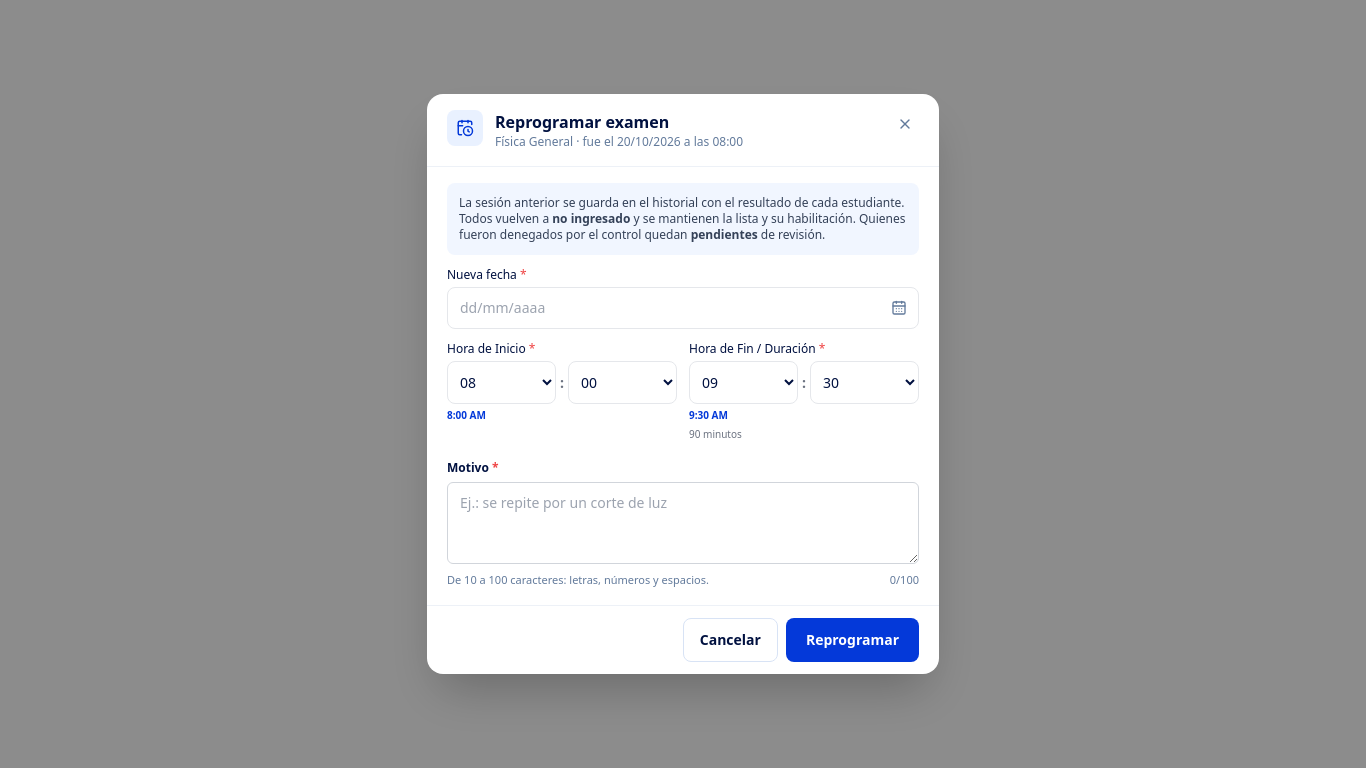
Scenario: Reprogramar examen › no deja una hora de fin anterior a la de inicio
The width and height of the screenshot is (1366, 768).
Step 1. Type "10012099" into the field labelled "Nueva fecha" → (683, 308), box left=447, top=287, right=919, bottom=329
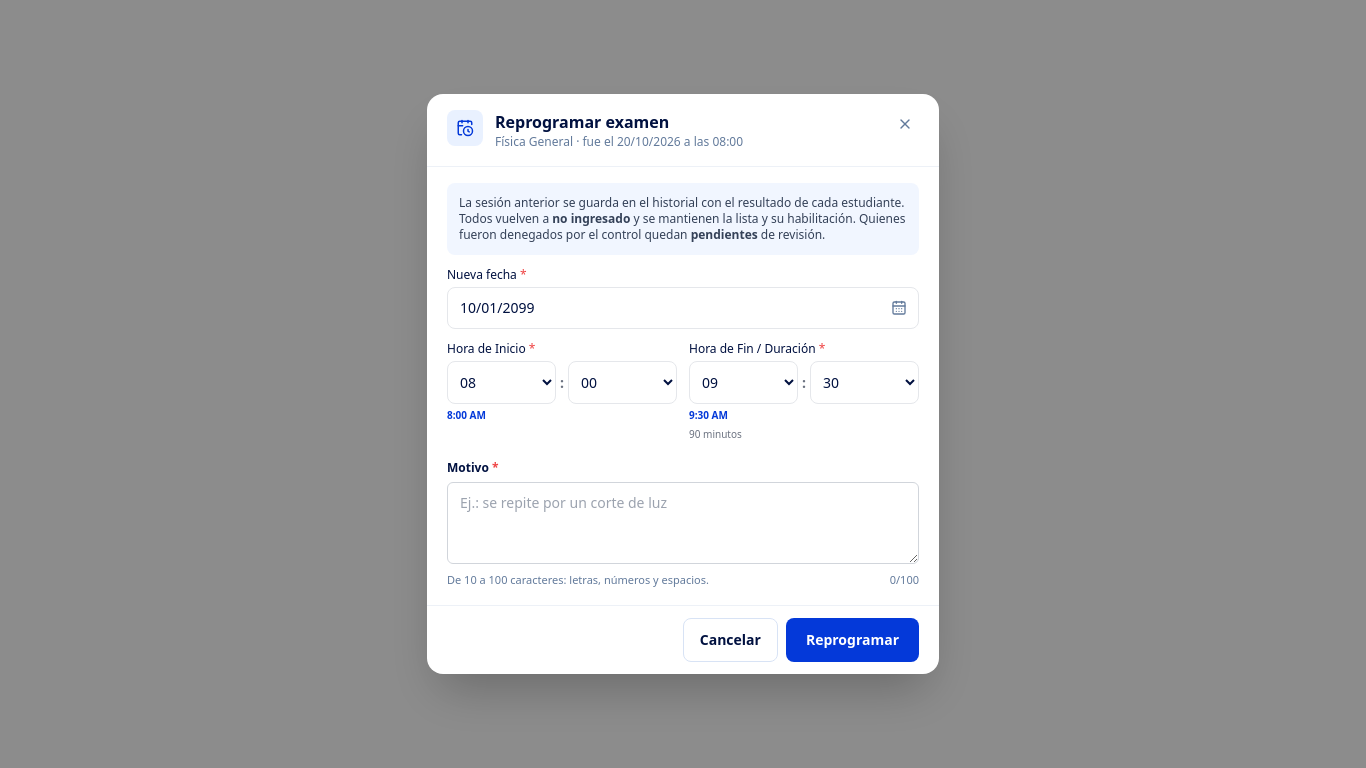
Step 2. Type "Se repite el examen" into the text box labelled "Motivo *" → (683, 523), box left=447, top=482, right=919, bottom=564
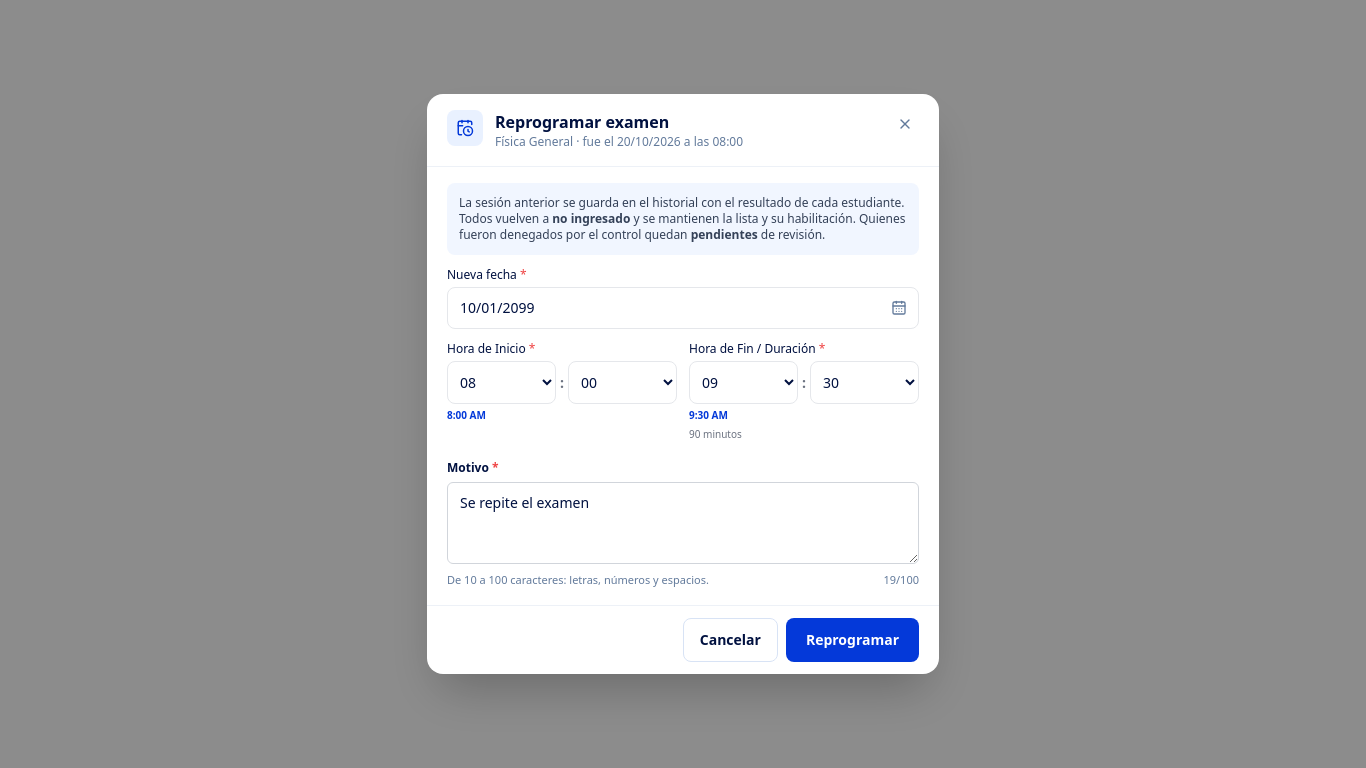
Step 3. Select "07" in the dropdown named "Hora de fin: hora" → (744, 383), box left=689, top=361, right=798, bottom=404
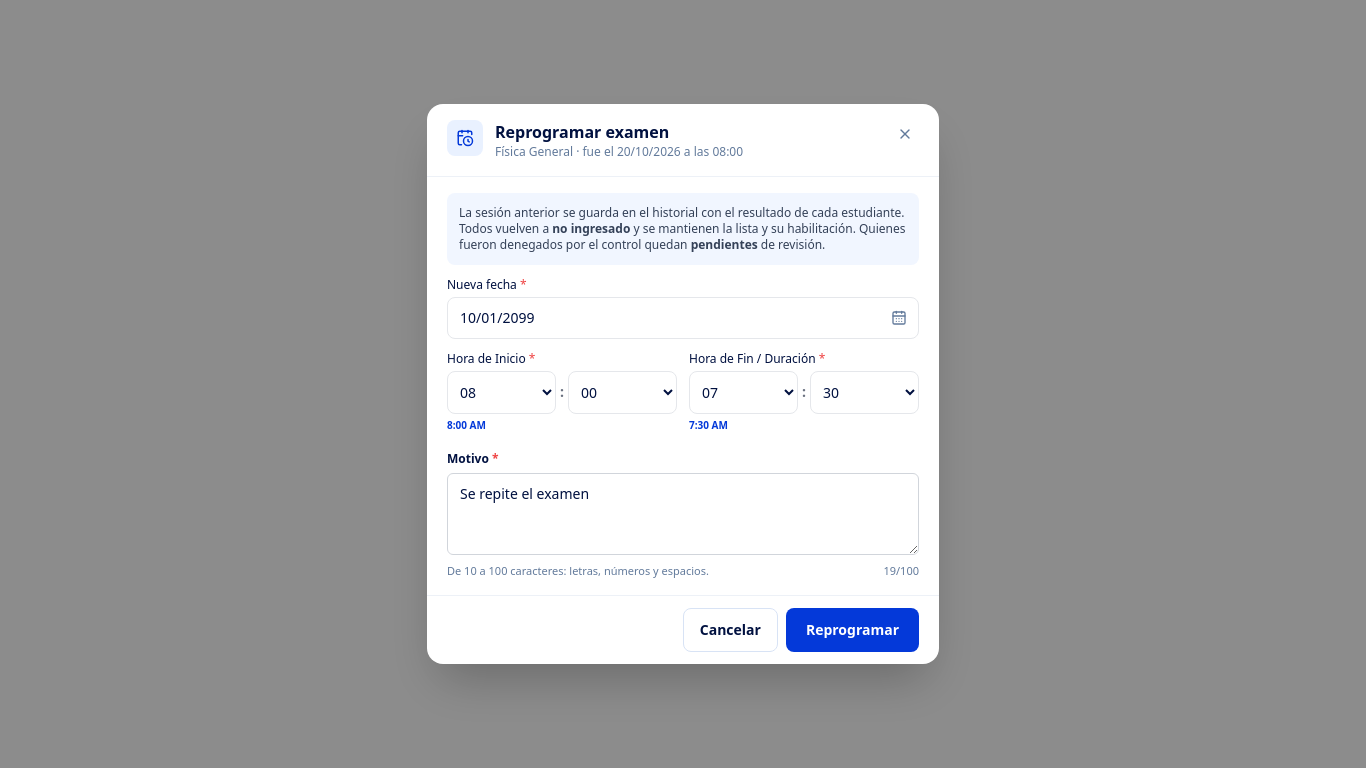
Step 4. Click the button "Reprogramar" → (852, 630), box left=786, top=608, right=919, bottom=652
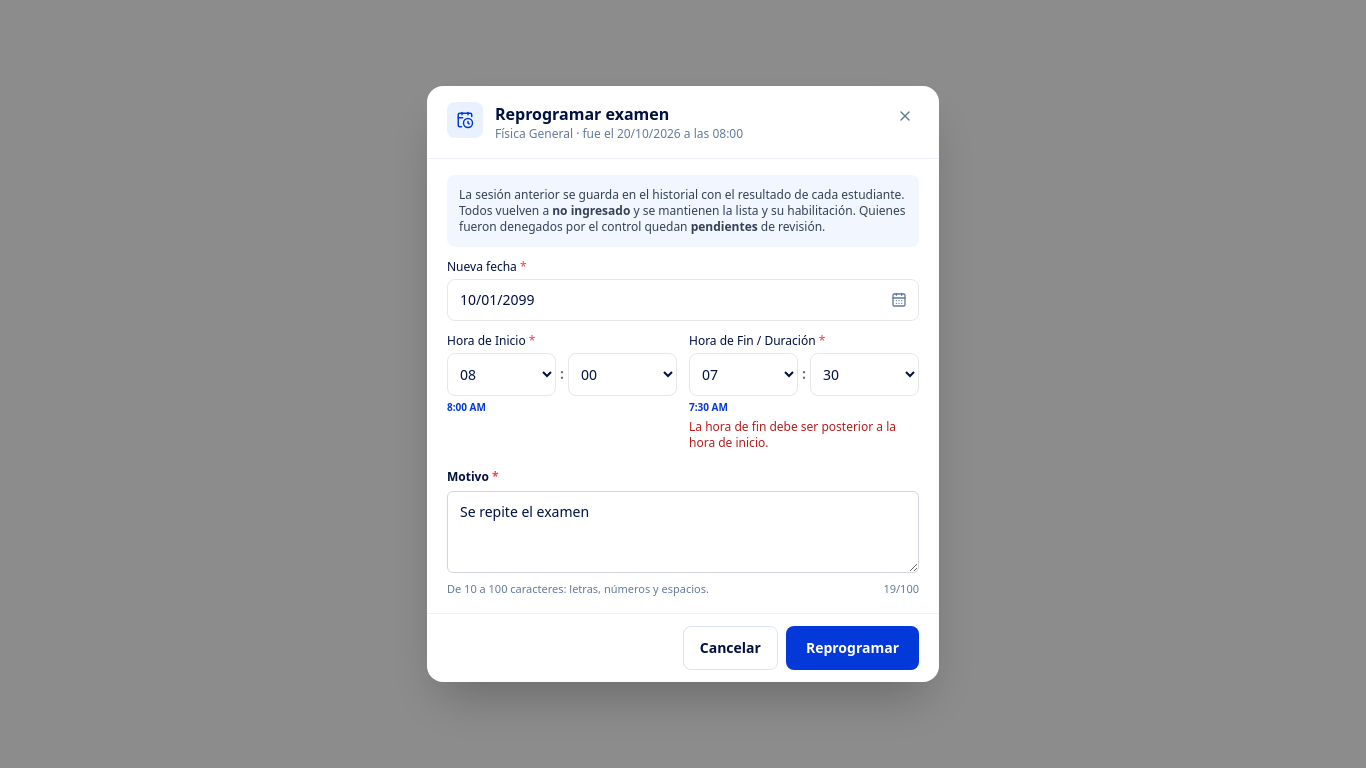
Result: the message shows "La hora de fin debe ser posterior a la hora de inicio" at left=689, top=418, right=896, bottom=451
